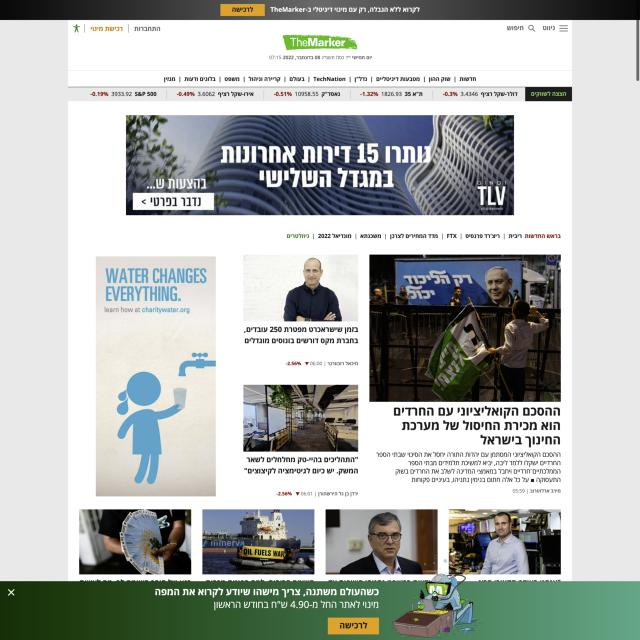logo: (266, 29, 378, 63)
navigation: (158, 72, 480, 86), (557, 23, 570, 34)
